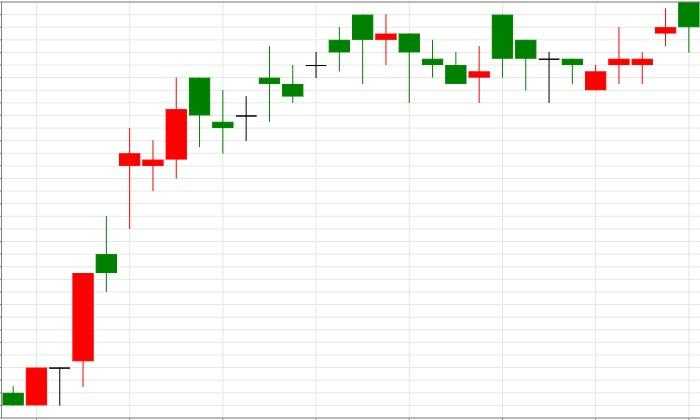hanging_man_fall: (212, 14, 373, 153)
